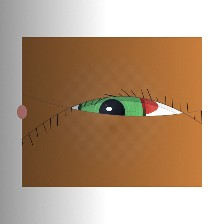hemorrhage_spot: (82, 71, 171, 142)
